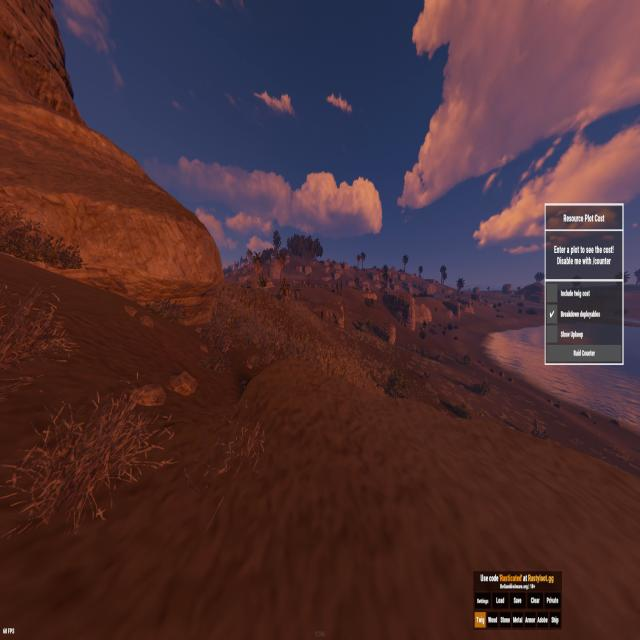Player: (321, 310, 323, 319)
